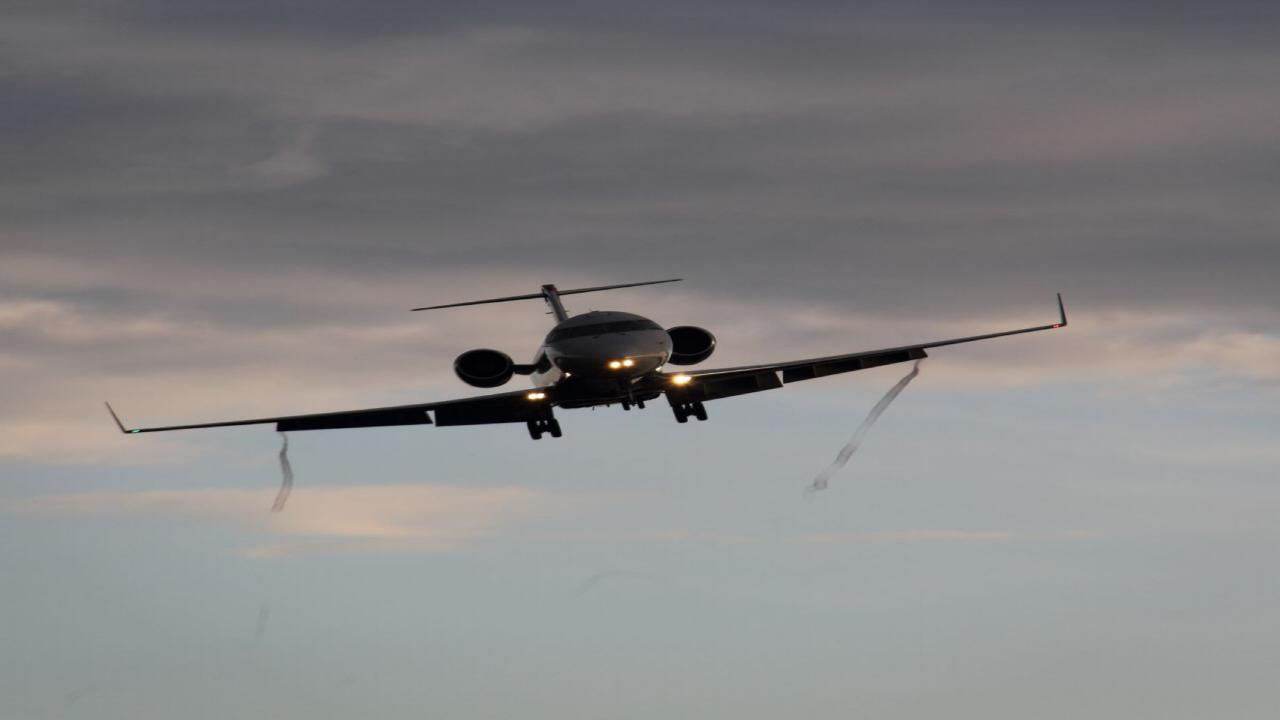Airplane: (78, 256, 1105, 465)
